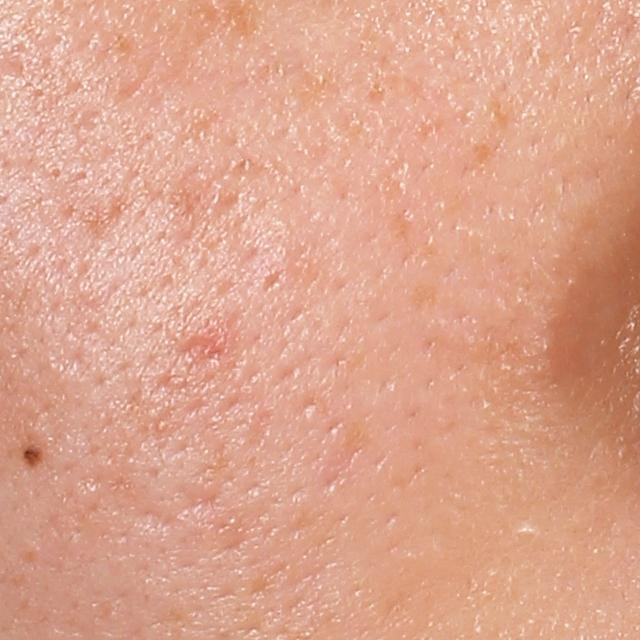comedo: (42, 160, 68, 186)
